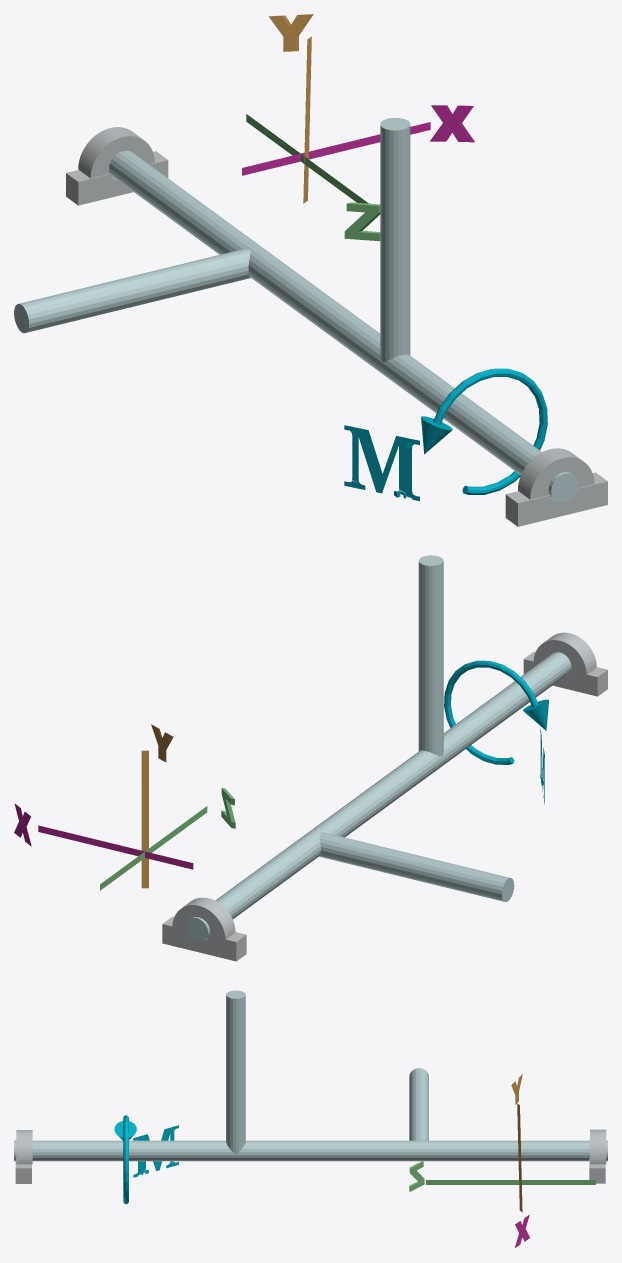
Rendered from U3_SimpleShaftSmall.glb.
3 views of the same model, one above another, from view 1: azimuth 30°, elevation 25°; view 2: azimuth 150°, elevation 25°; view 3: azimuth 270°, elevation 25° (orthographic). The views are drawn at different scales.
Parts seen in each view (by area): view 1: Mesh_Mesh_head_geo.001_lambert2SG.001; view 2: Mesh_Mesh_head_geo.001_lambert2SG.001; view 3: Mesh_Mesh_head_geo.001_lambert2SG.001.
Part boxes in pixels (x1,y1,x2,y2): Mesh_Mesh_head_geo.001_lambert2SG.001: (14,14,607,526); Mesh_Mesh_head_geo.001_lambert2SG.001: (14,555,607,961); Mesh_Mesh_head_geo.001_lambert2SG.001: (14,990,607,1247).
Size of the model in its own units: 7 by 3.93 by 10.46.
